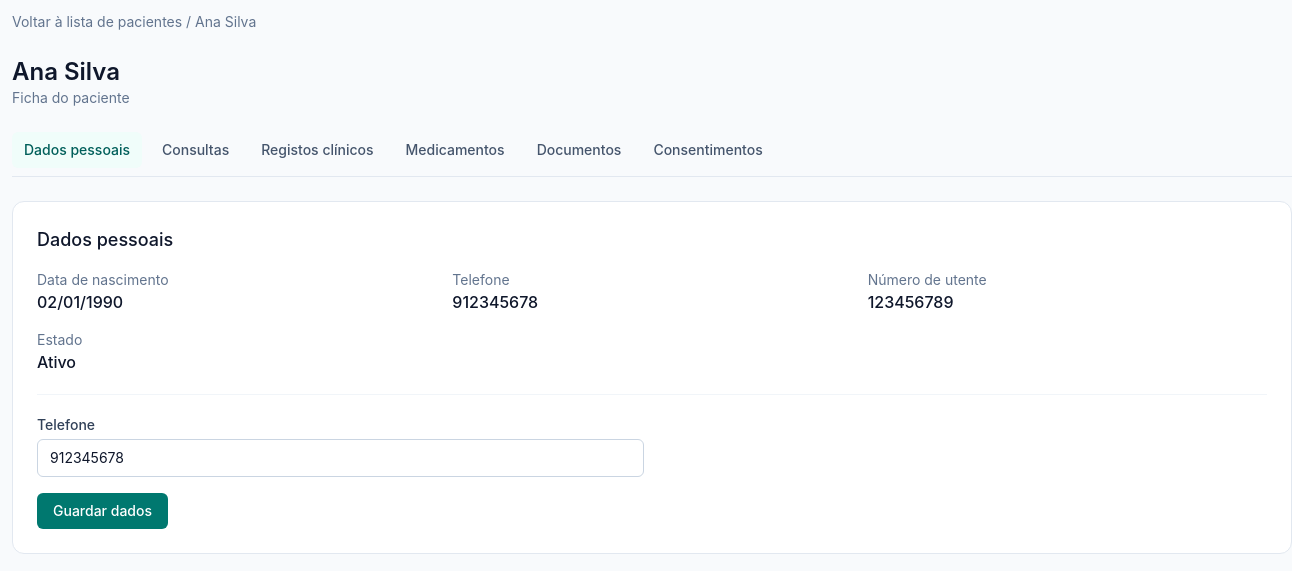
Test: PatientDetailPage medical records (inline section) › is read-only for the patient: no form and no edit action
The width and height of the screenshot is (1292, 571).
Click the tab "Registos clínicos": (317, 150) top-left (249, 132), bottom-right (386, 168)
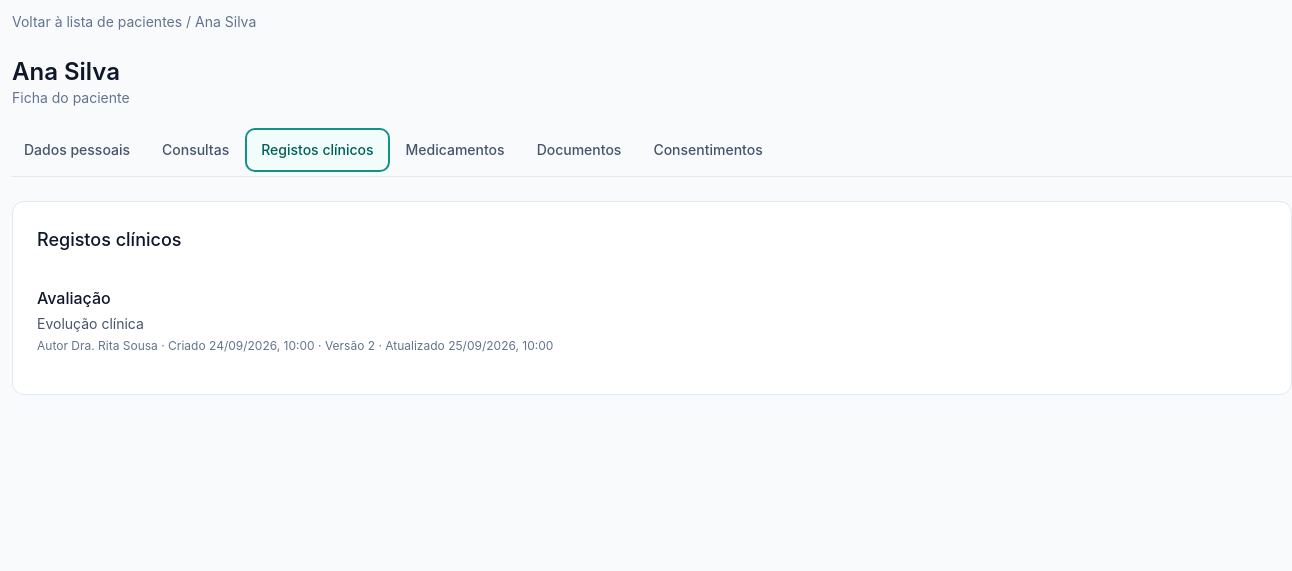
Expected: the text "Evolução clínica" is shown, top-left (37, 315), bottom-right (144, 332)
